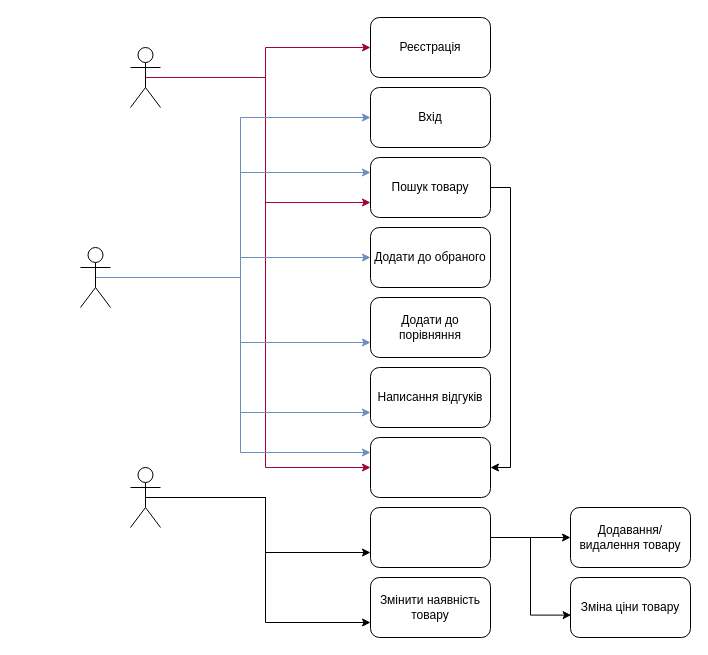
Some shapes in this 708 by 655 pixel diagram are drawn without their labels. The centre of each missing label's shape, as x and y in pixels:
Зареєстрований користувач: [95,277]
Зміна товару: [430,537]
Незареєстрований користувач: [145,77]
Оформлення замовлення: [430,467]
Продавець: [145,497]
